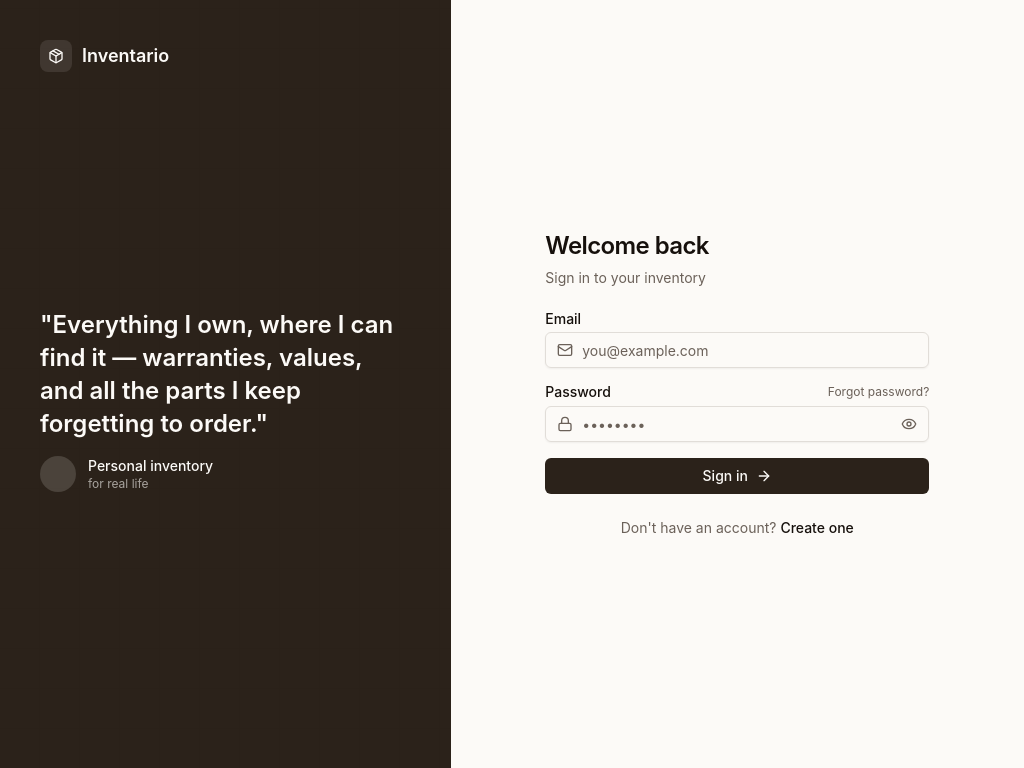
Test case: <LoginPage /> › validates required fields before submitting
Click the button with test id "login-button": (737, 476) [545,458,929,494]
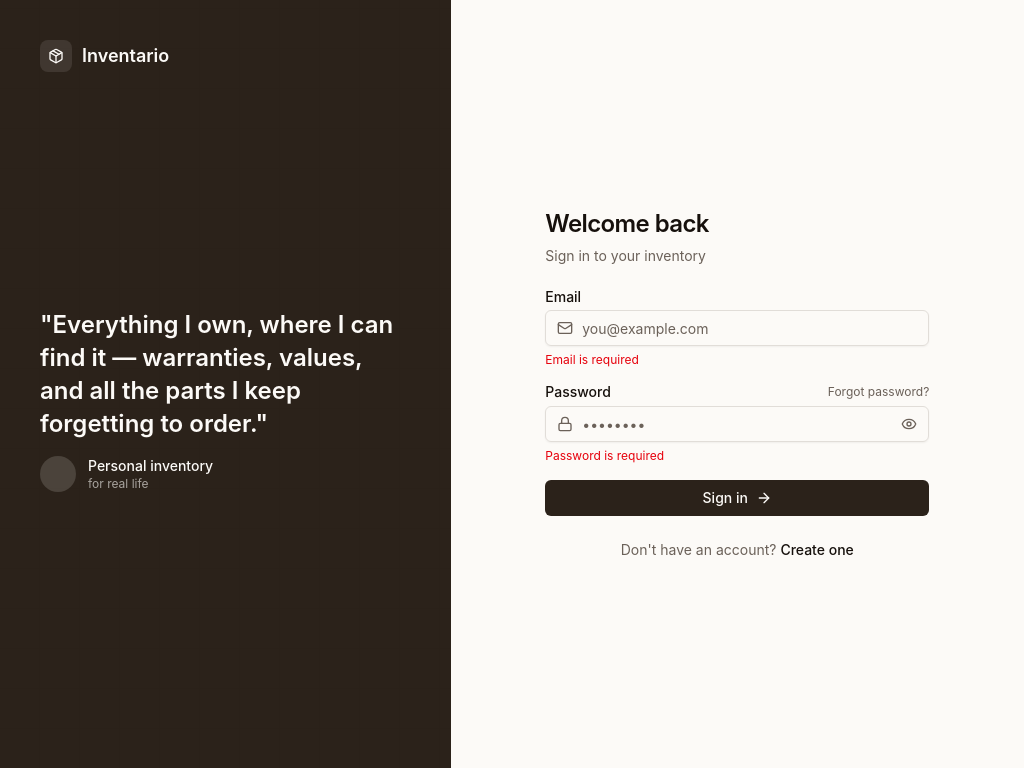
Check: the text "Email is required" is shown, box [545,352,639,367]
Check: the text "Password is required" is shown, box [545,448,664,463]
